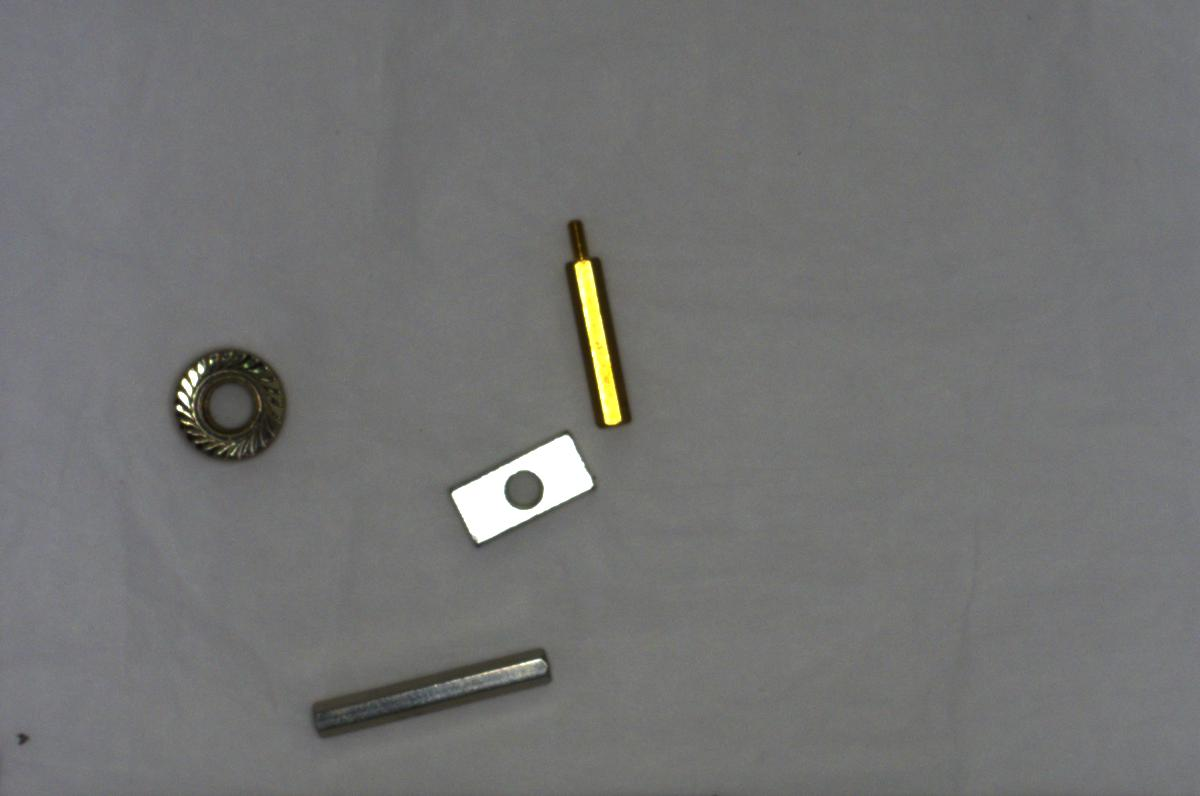Double hexagonal column: (287, 630, 562, 743)
Flange nut: (166, 341, 298, 472)
Hexagon pillar: (553, 207, 645, 436)
Rectangular nut: (440, 425, 604, 556)
